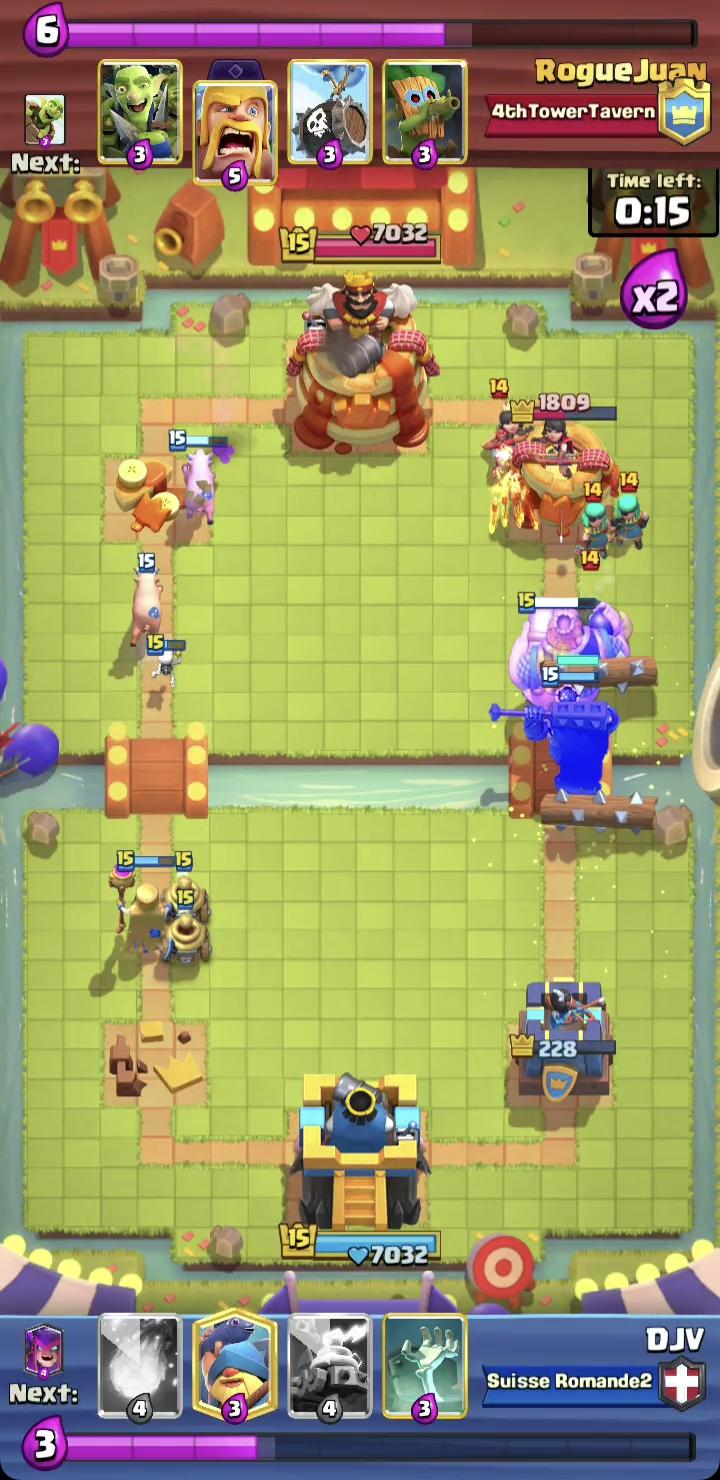ally_cursedhog: (167, 428, 230, 527), (129, 551, 163, 652)
ally_log: (550, 650, 660, 694)
ally_motherwitch: (107, 849, 170, 954)
ally_royale_giant: (505, 589, 633, 709)
ally_skeleton: (145, 633, 191, 691)
ally_skeletonking: (488, 654, 620, 796)
ally_zappy: (154, 850, 212, 925), (158, 887, 212, 967)
enemy_log: (539, 789, 659, 836)
enemy_princess: (481, 377, 534, 482)
enemy_rascalboy: (567, 549, 632, 667)
enemy_rascalgirl: (608, 470, 649, 551), (579, 482, 616, 558)
